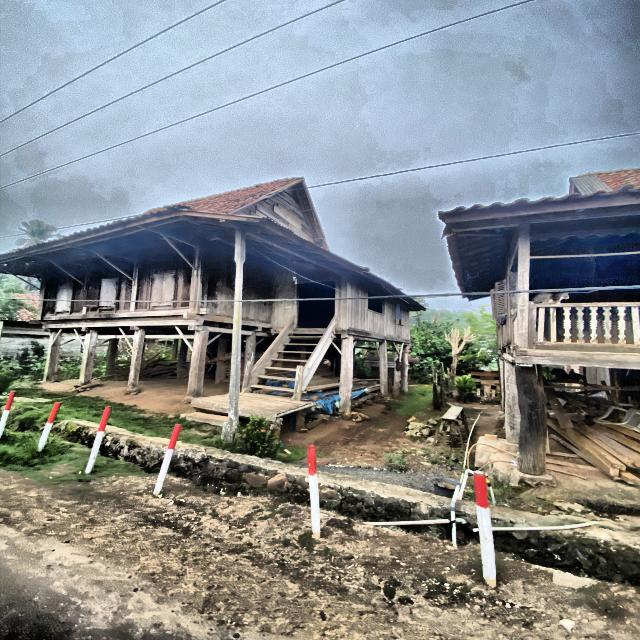column: (516, 365, 548, 476), (229, 232, 246, 422), (499, 360, 523, 444), (187, 331, 209, 397), (339, 335, 353, 413), (128, 329, 146, 389), (79, 330, 98, 385), (43, 333, 62, 382), (105, 338, 120, 379), (379, 342, 388, 395), (400, 345, 410, 392), (392, 344, 401, 395), (178, 340, 189, 379), (172, 338, 179, 360)
door: (297, 281, 335, 328)
ornamen: (536, 302, 640, 354)
roof: (1, 178, 428, 311), (439, 168, 640, 301)
stair: (250, 316, 335, 393)
wall: (37, 236, 411, 343)
window: (151, 272, 176, 306), (490, 280, 506, 320), (55, 277, 73, 312), (99, 279, 118, 309), (368, 292, 385, 316)
